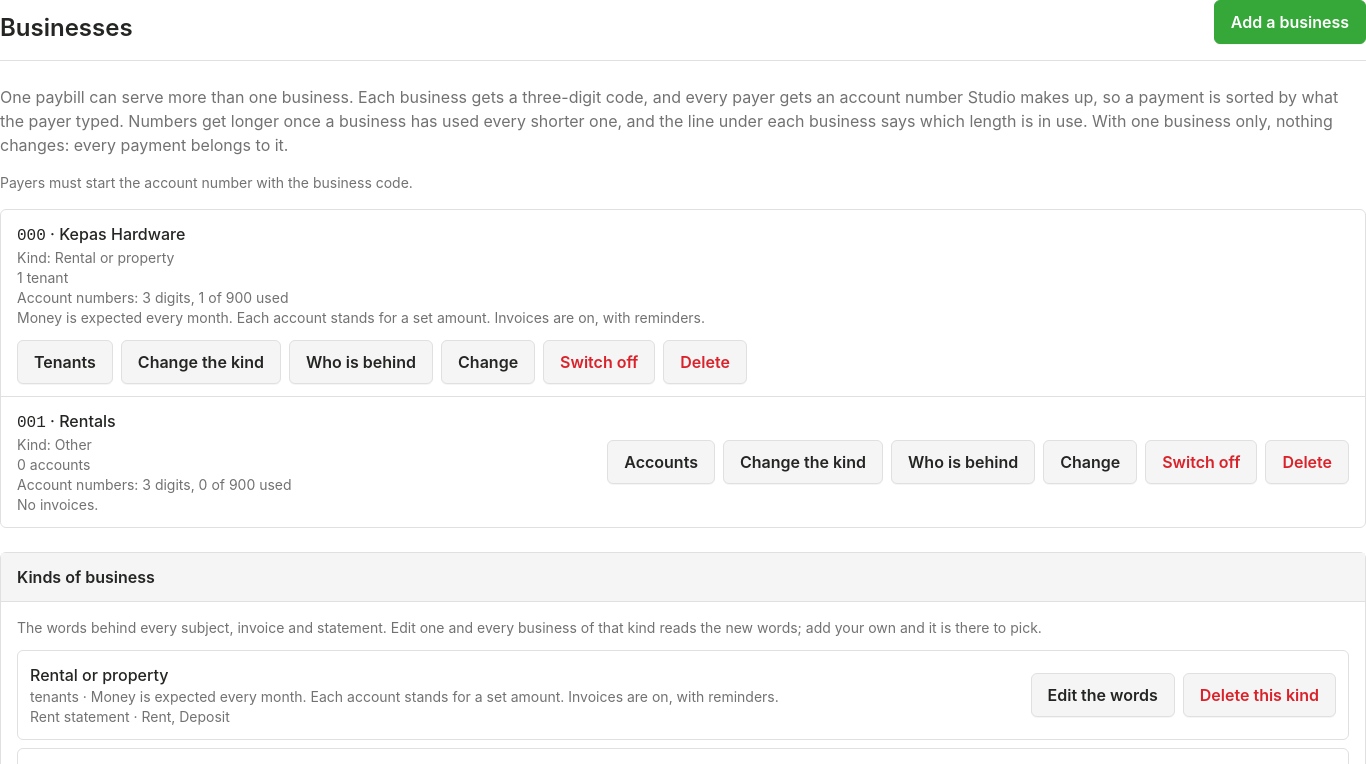
Test case: Businesses and their accounts › lists a business with its code, its number width, and a customer whose full number is printed
Expected: the text "000 · Kepas Hardware" is shown, [17,224,185,245]
Expected: the text "000" is shown, [17,227,46,245]
Click the button "Tenants" at (65, 362), box [17,340,113,384]
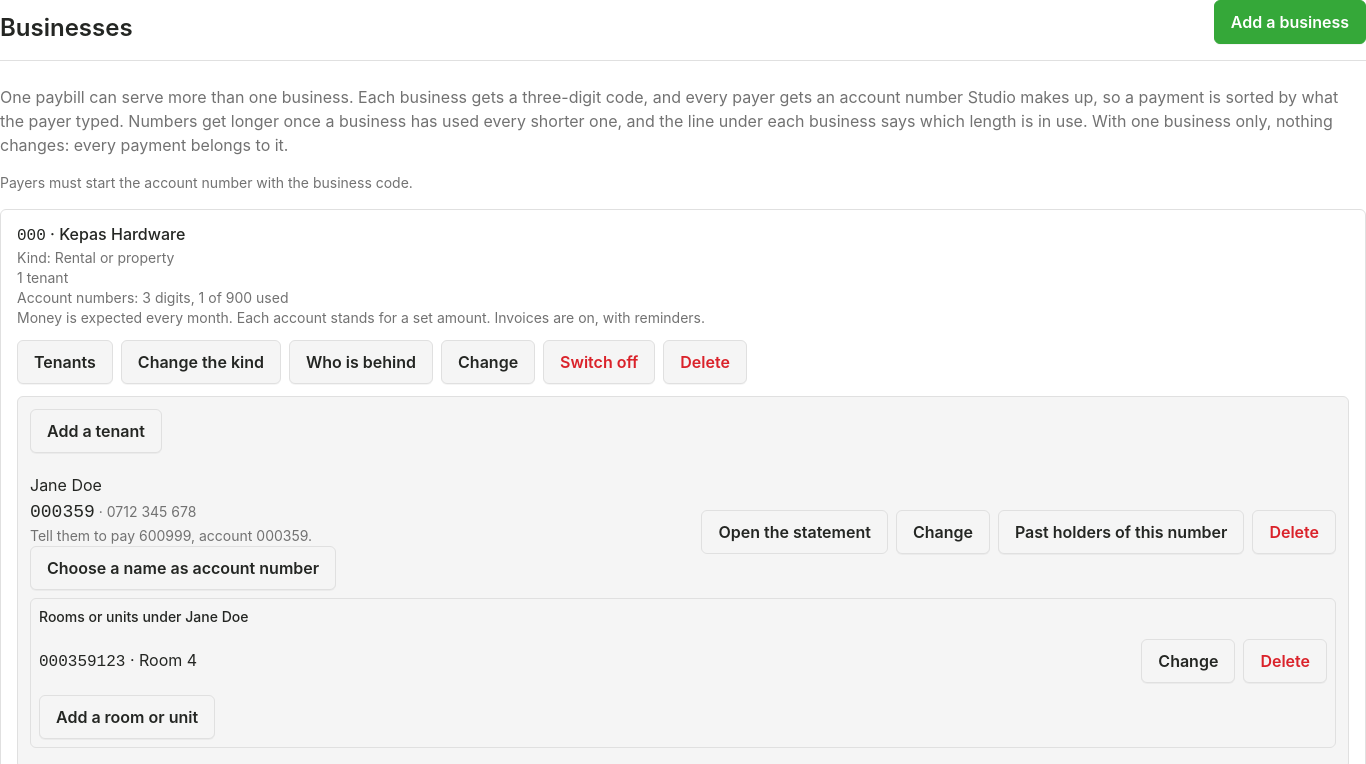
Now the text "Jane Doe" is shown, box [30,475,102,495]
Now the element with test id "full-k1" shows "000359", box [30,502,95,522]
Now the text "000359123" is shown, box [39,653,125,671]
